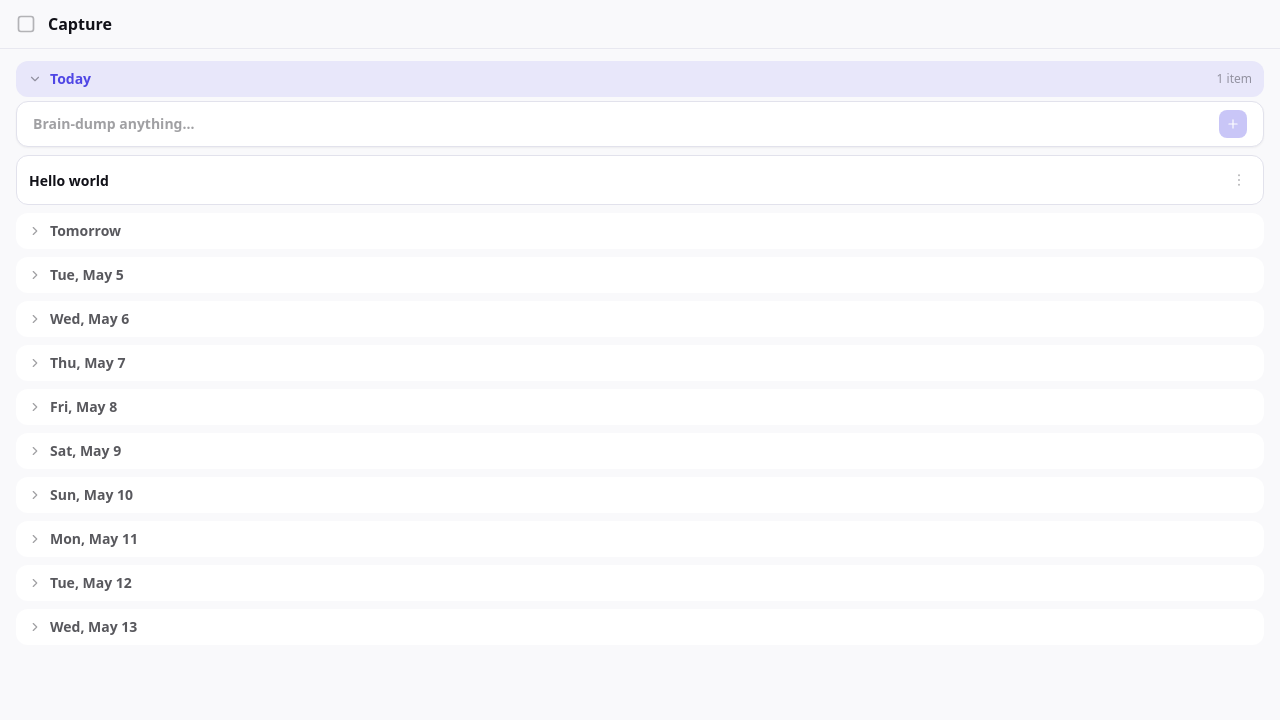
Test case: Capture › 4a-10: clicking item checkbox in bulk mode toggles selection
This screenshot has width=1280, height=720.
Click the button named "Enter bulk select" at (26, 24), box [16,14,36,34]
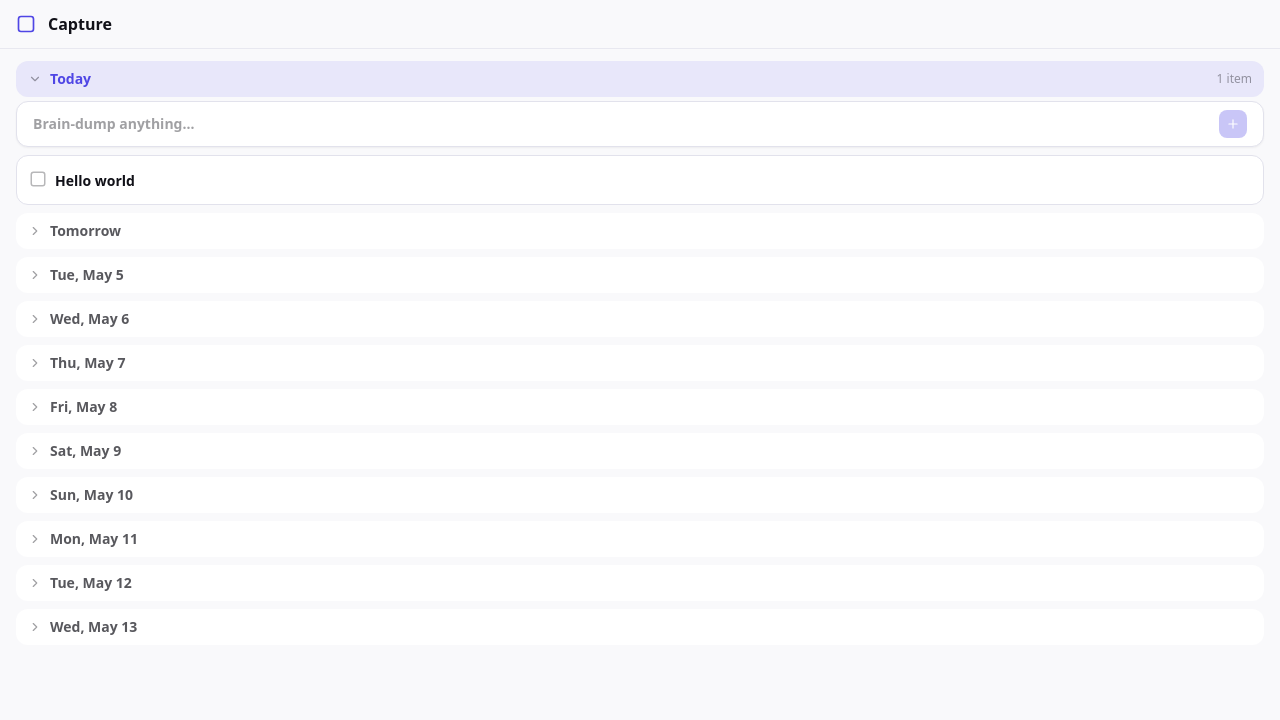
Click the button named "Select" at (38, 179), box [29,170,47,188]
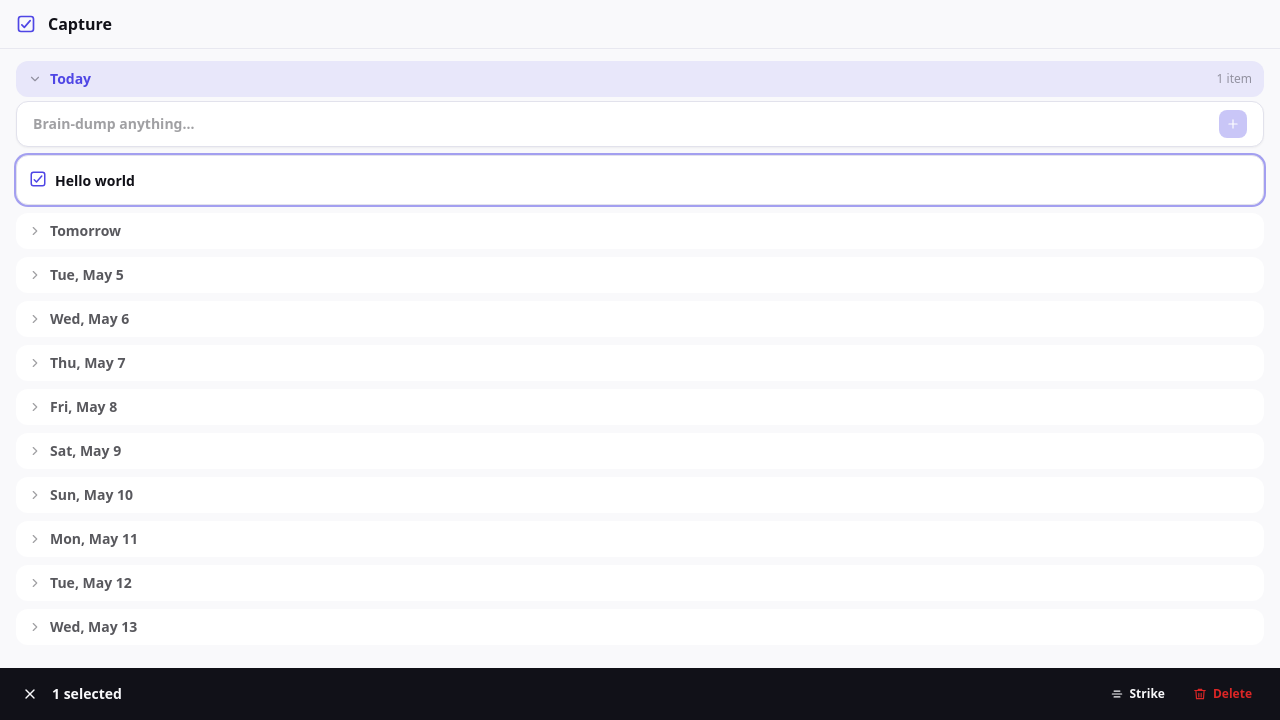
Check: the button named "Deselect" is shown, box [29,170,47,188]
